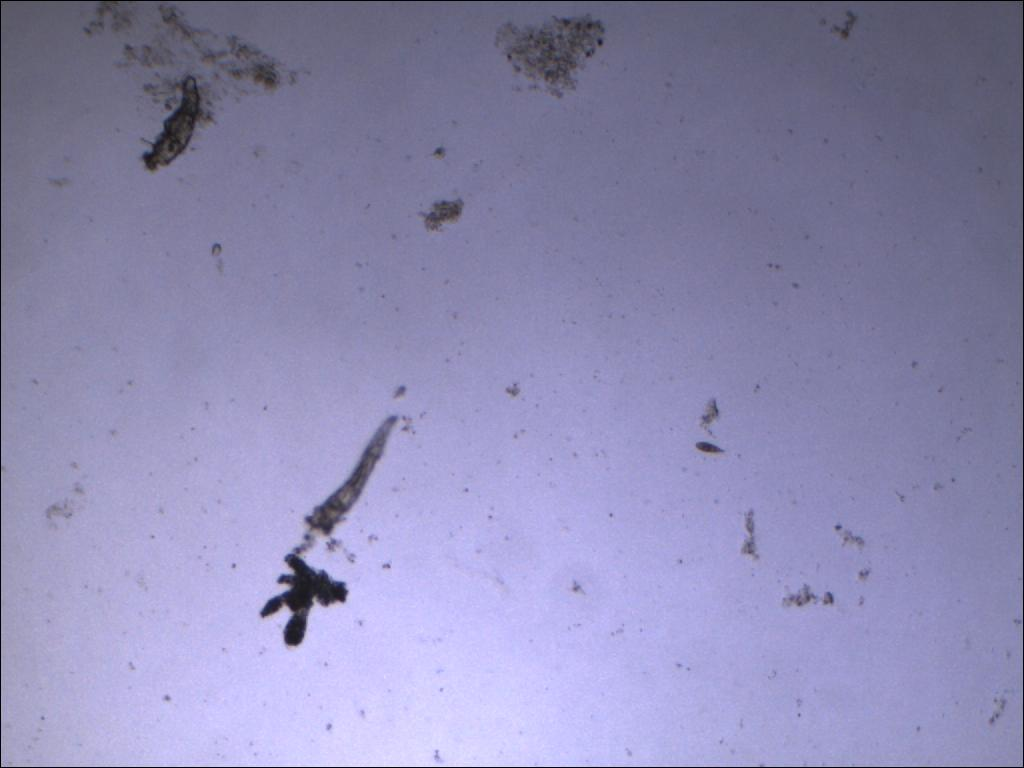amoeba: (257, 549, 353, 652)
